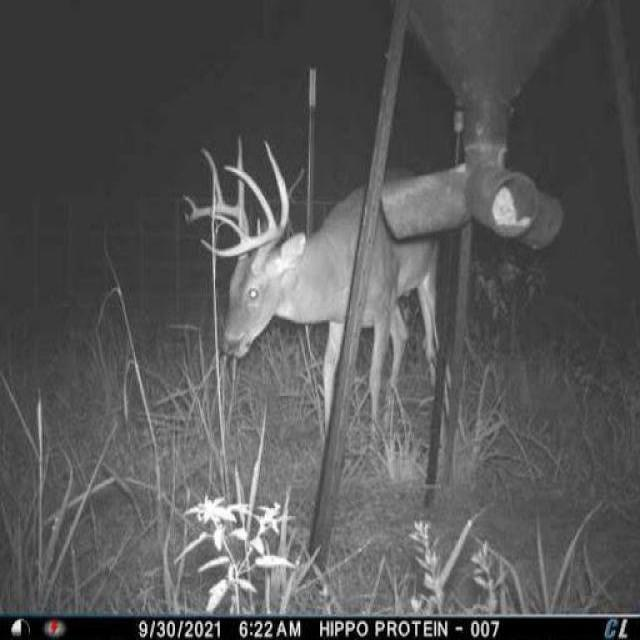deer: (174, 135, 458, 444)
